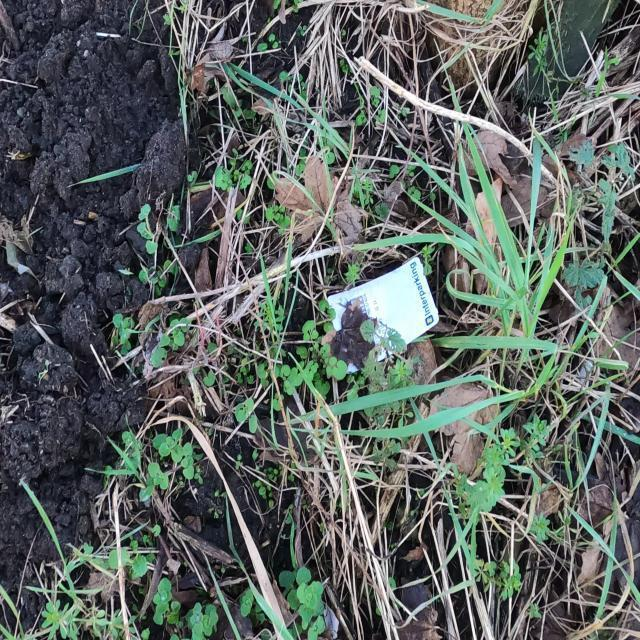Paper: (321, 254, 440, 372)
